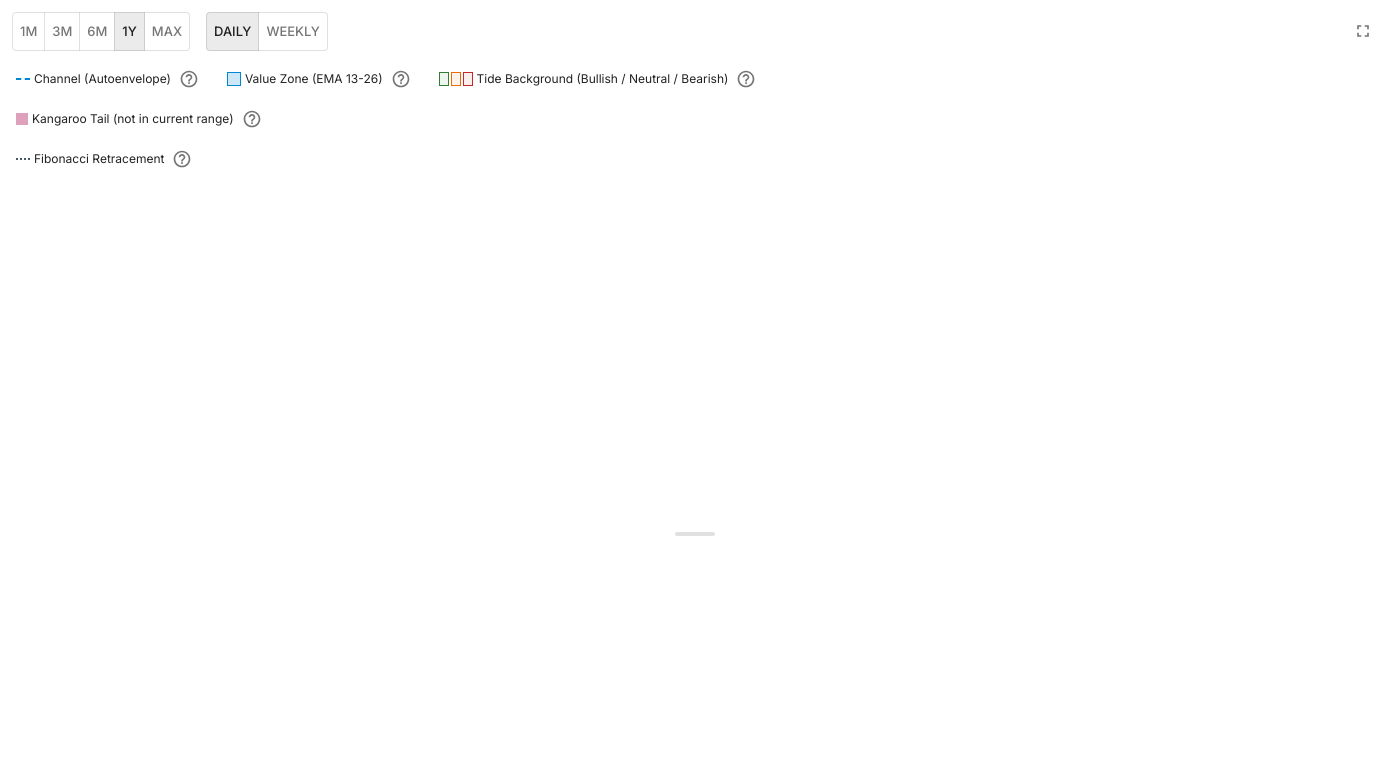
PriceChart › kangaroo tail overlay (frontend-kangaroo-tail-markers) › still shows the Kangaroo Tail legend (noting it is not in the current range) when the tail date falls outside the currently visible bar range
Expected: the text "Kangaroo Tail (not in current range)" is shown, [32, 109, 234, 129]
Click the button named "Kangaroo Tail help".
click(252, 119)  # box [242, 109, 262, 129]
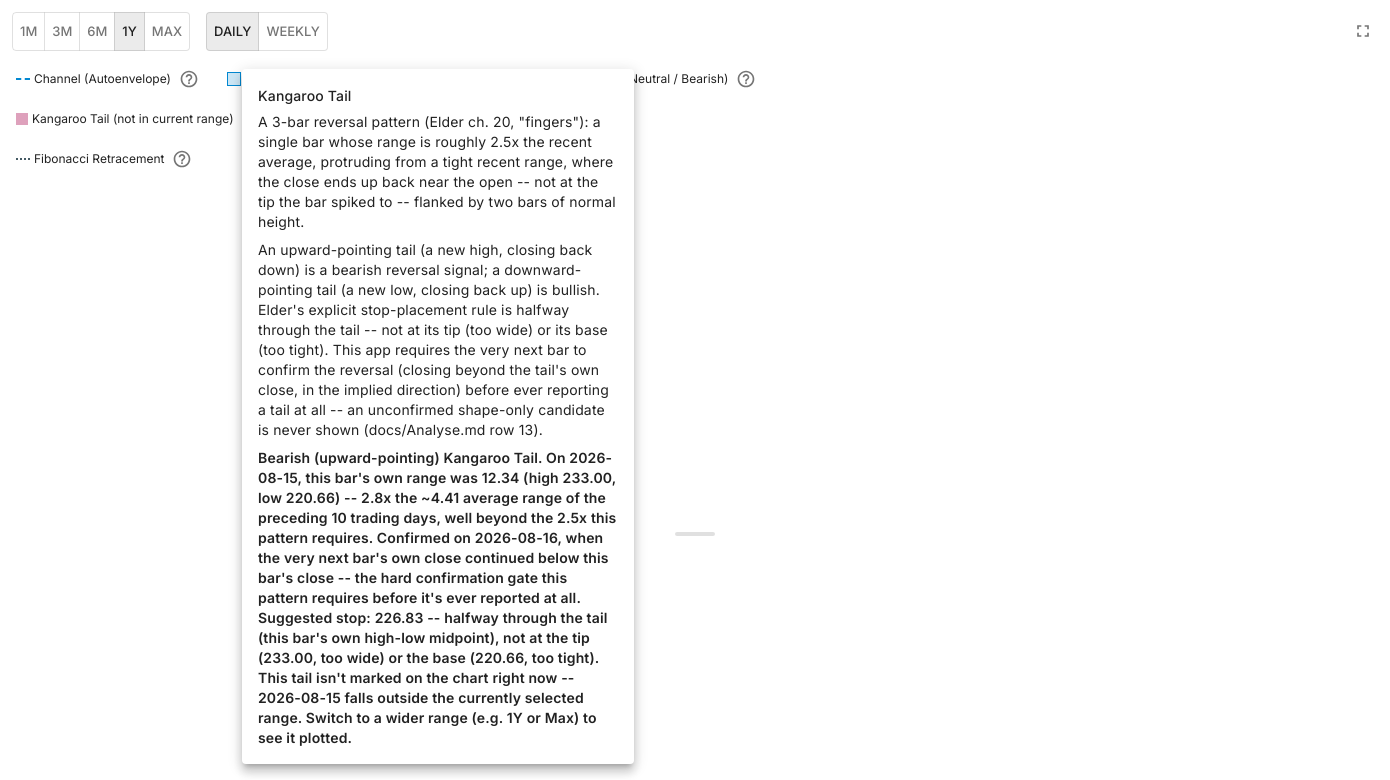
Result: the text "isn't marked on the chart right now" is shown at [258, 449, 616, 746]
